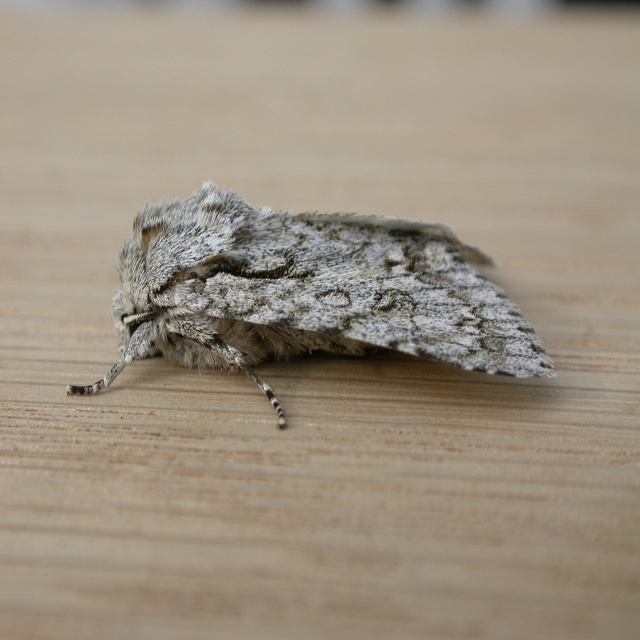Moths and butterflies: (64, 178, 558, 435)
